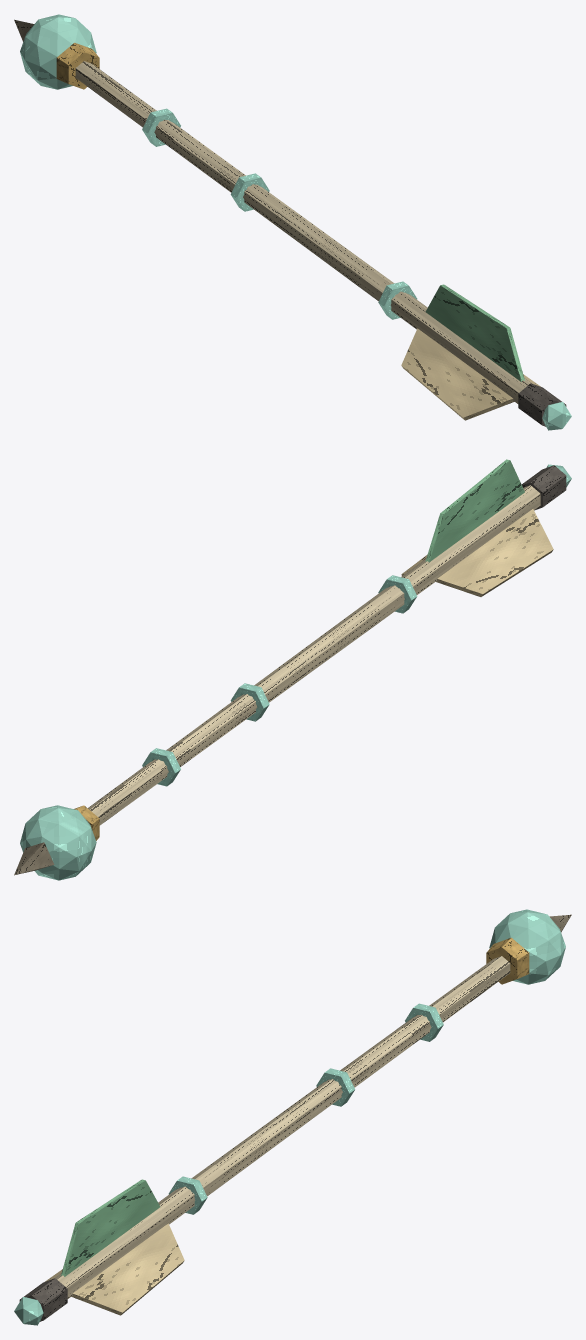
File: proj_arrow_blink.gltf
3 views of the same model, one above another, from view 1: azimuth 30°, elevation 25°; view 2: azimuth 150°, elevation 25°; view 3: azimuth 330°, elevation 25° (orthographic).
Parts seen in each view (by area): view 1: body, glow; view 2: body, glow; view 3: body, glow.
Boxes of the visible parts, x1=… form: body: x1=14, y1=19, x2=566, y2=426; glow: x1=20, y1=14, x2=571, y2=430; body: x1=14, y1=459, x2=566, y2=875; glow: x1=20, y1=464, x2=571, y2=880; body: x1=19, y1=914, x2=571, y2=1321; glow: x1=14, y1=909, x2=565, y2=1325.
Size of the model in its own units: 0.0708 by 0.066 by 0.7434.
2 materials, 2 textured.
